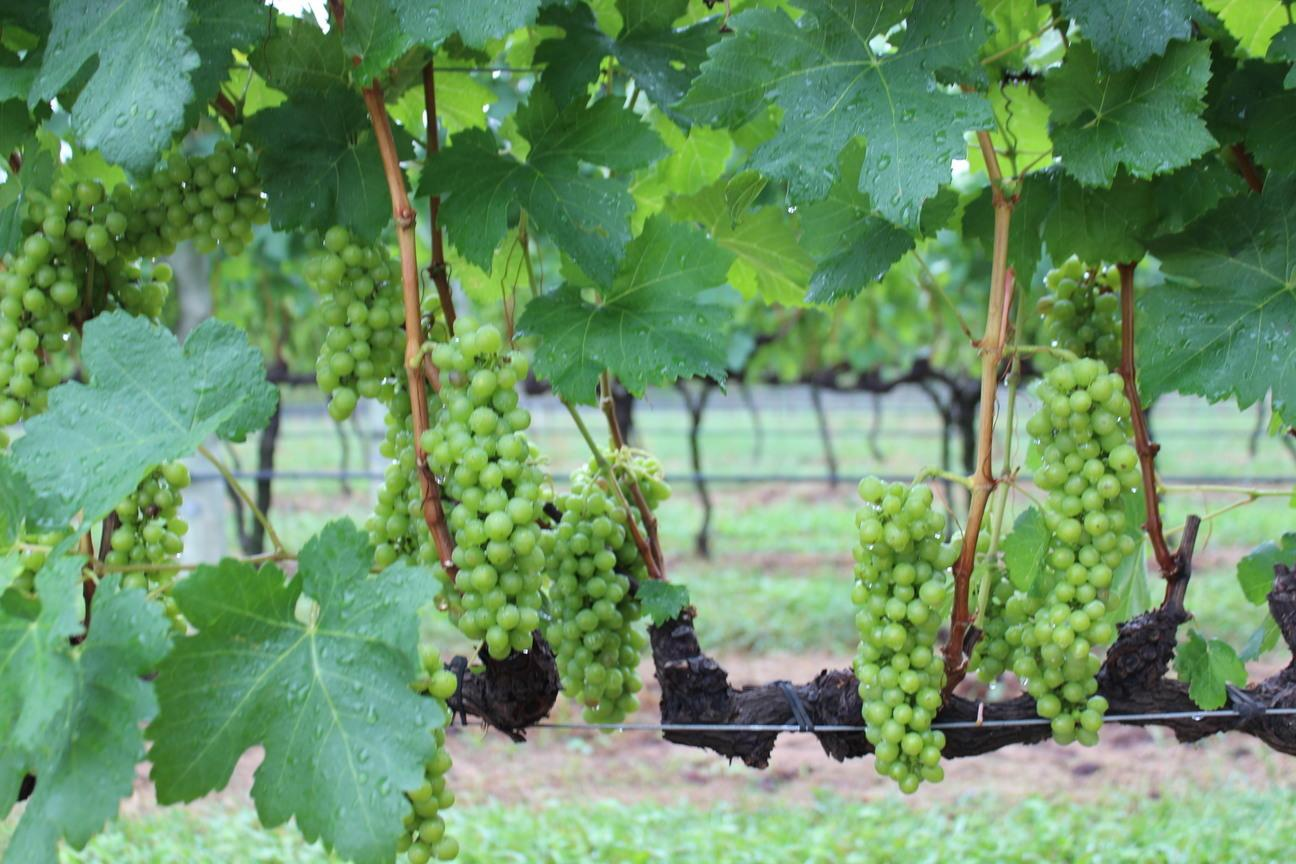leaf: (148, 521, 447, 862), (680, 0, 991, 225), (14, 311, 276, 526), (417, 87, 666, 283), (6, 575, 168, 861), (518, 214, 733, 402), (1136, 172, 1295, 414), (27, 0, 199, 171), (1045, 41, 1215, 184), (245, 86, 390, 238), (535, 0, 718, 120), (668, 182, 812, 302), (1060, 0, 1196, 68), (186, 0, 270, 101), (249, 18, 348, 93), (388, 0, 541, 47), (1173, 629, 1245, 707), (1201, 0, 1289, 55), (1235, 531, 1295, 603), (1003, 507, 1052, 589), (62, 557, 79, 575), (45, 561, 55, 568), (0, 800, 6, 804), (0, 781, 2, 784), (0, 756, 1, 761), (73, 583, 74, 588), (37, 573, 38, 577), (402, 152, 406, 153), (0, 788, 2, 789), (72, 594, 74, 595)
